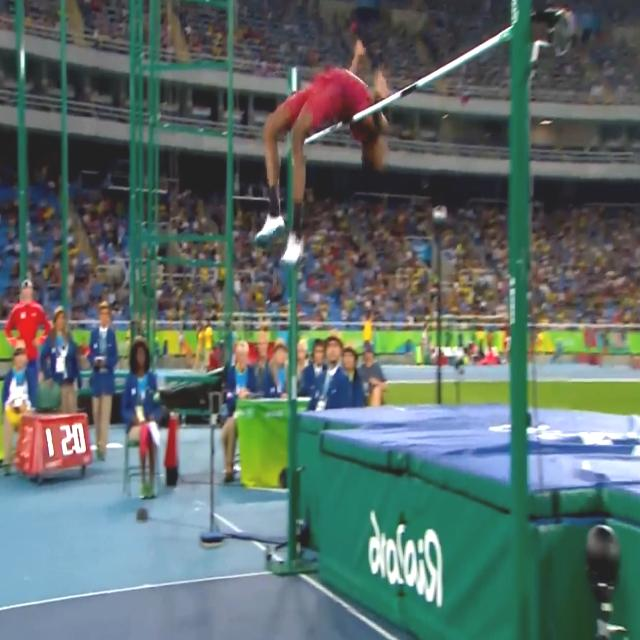jump: (254, 34, 393, 270)
